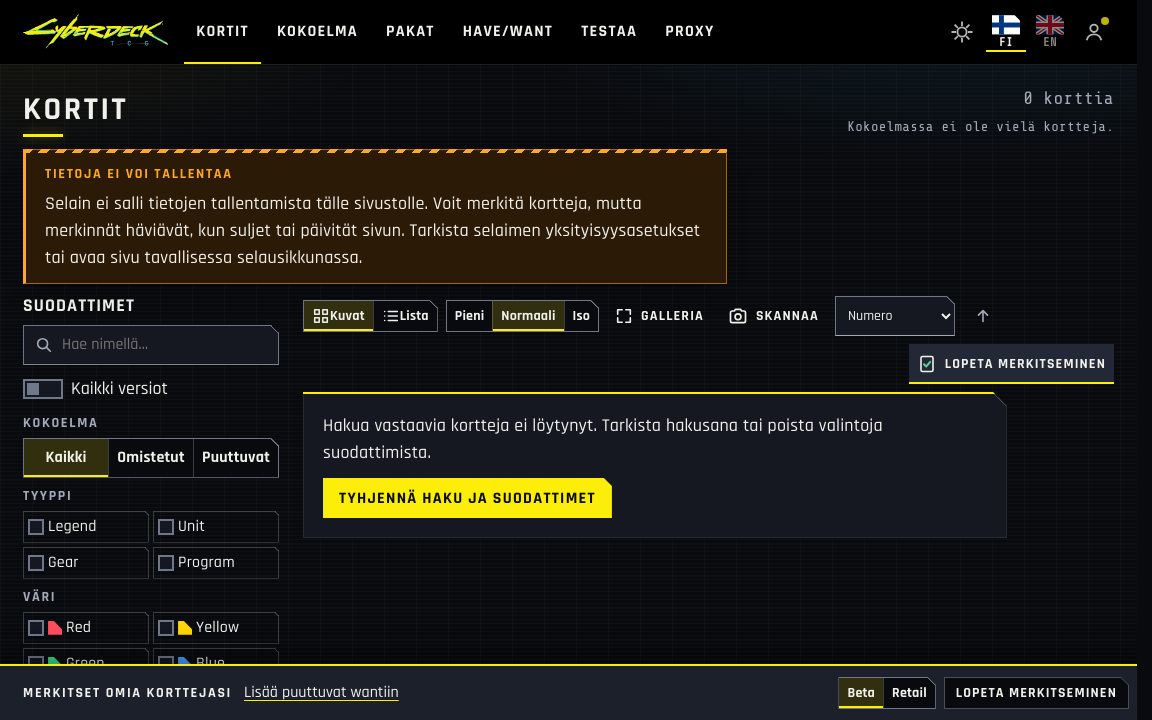
Scenario: account: signing in and out › closes the account menu with Escape and returns focus to its button
Click the button named "Tili": click(1094, 32) [1074, 12, 1114, 52]
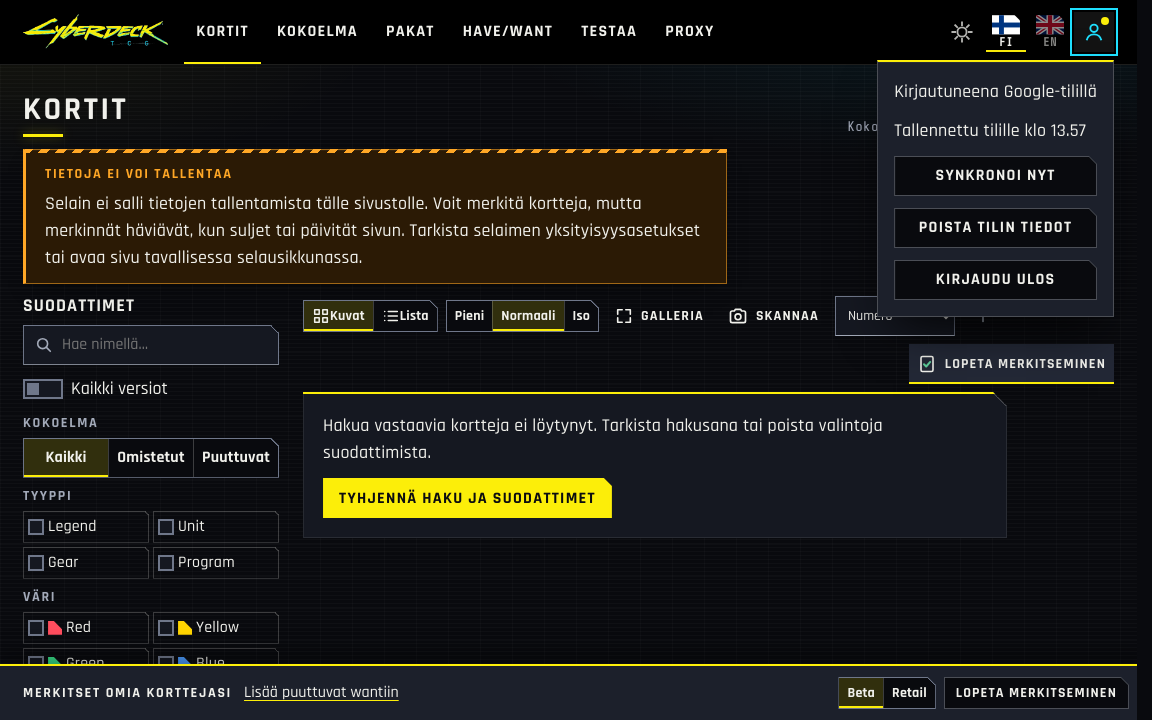
Now the text "Kirjautuneena Google-tilillä" is shown, box [894, 78, 1097, 105]
Press Escape
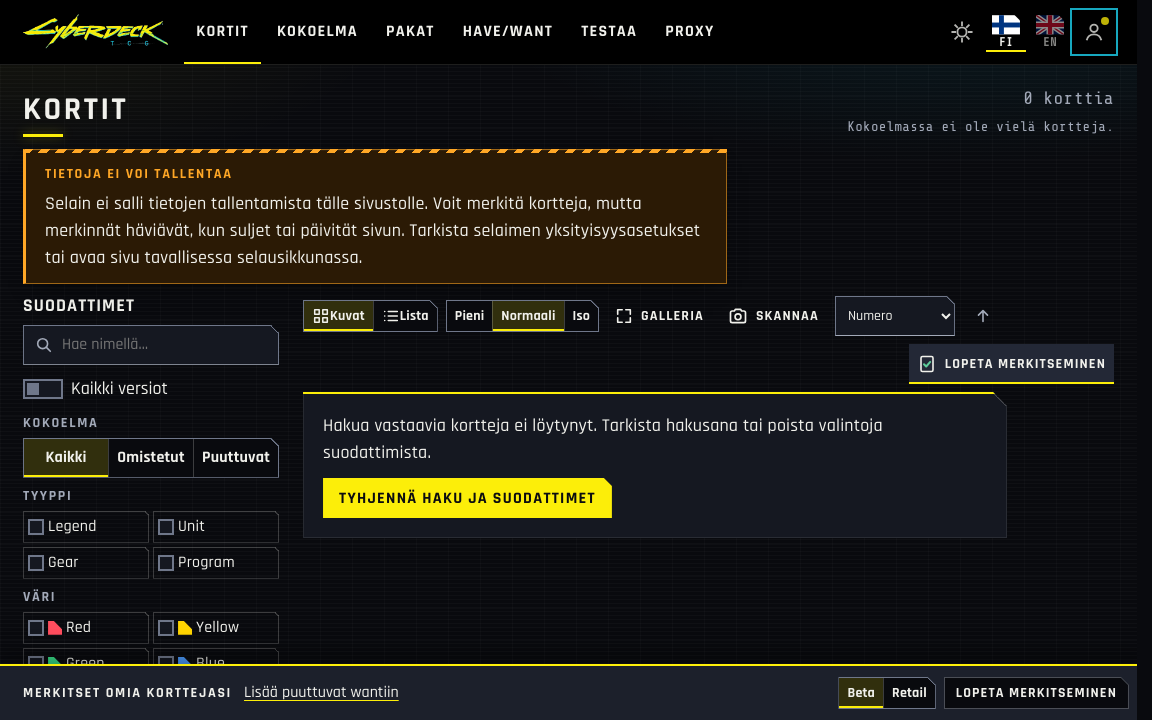
Now the button named "Tili" is collapsed, box [1074, 12, 1114, 52]
